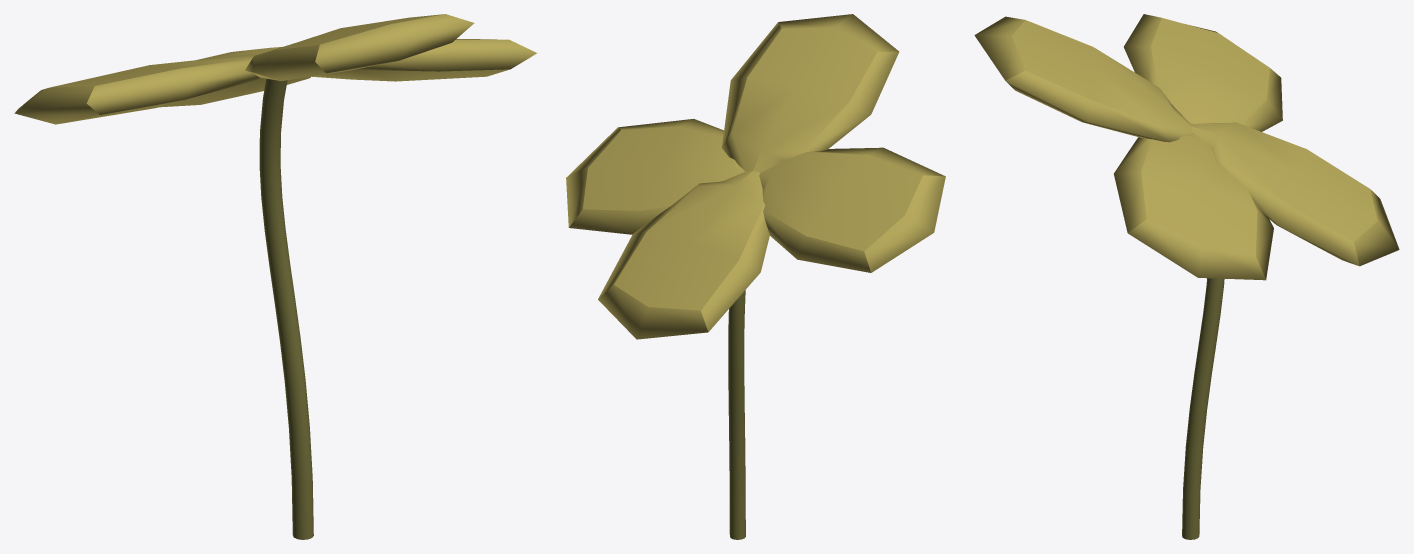
File: Clover2.fbx
3 views of the same model, side by side, from view 1: azimuth 30°, elevation 25°; view 2: azimuth 150°, elevation 25°; view 3: azimuth 270°, elevation 25° (orthographic). The views are drawn at different scales.
Visible parts, largest first — view 1: Clover2; view 2: Clover2; view 3: Clover2.
Part boxes in pixels (left/top/right/bottom): Clover2: left=14, top=14, right=536, bottom=539; Clover2: left=566, top=14, right=945, bottom=539; Clover2: left=974, top=14, right=1399, bottom=539.
Bounding box in the file's own units: 216 × 249 × 195.
